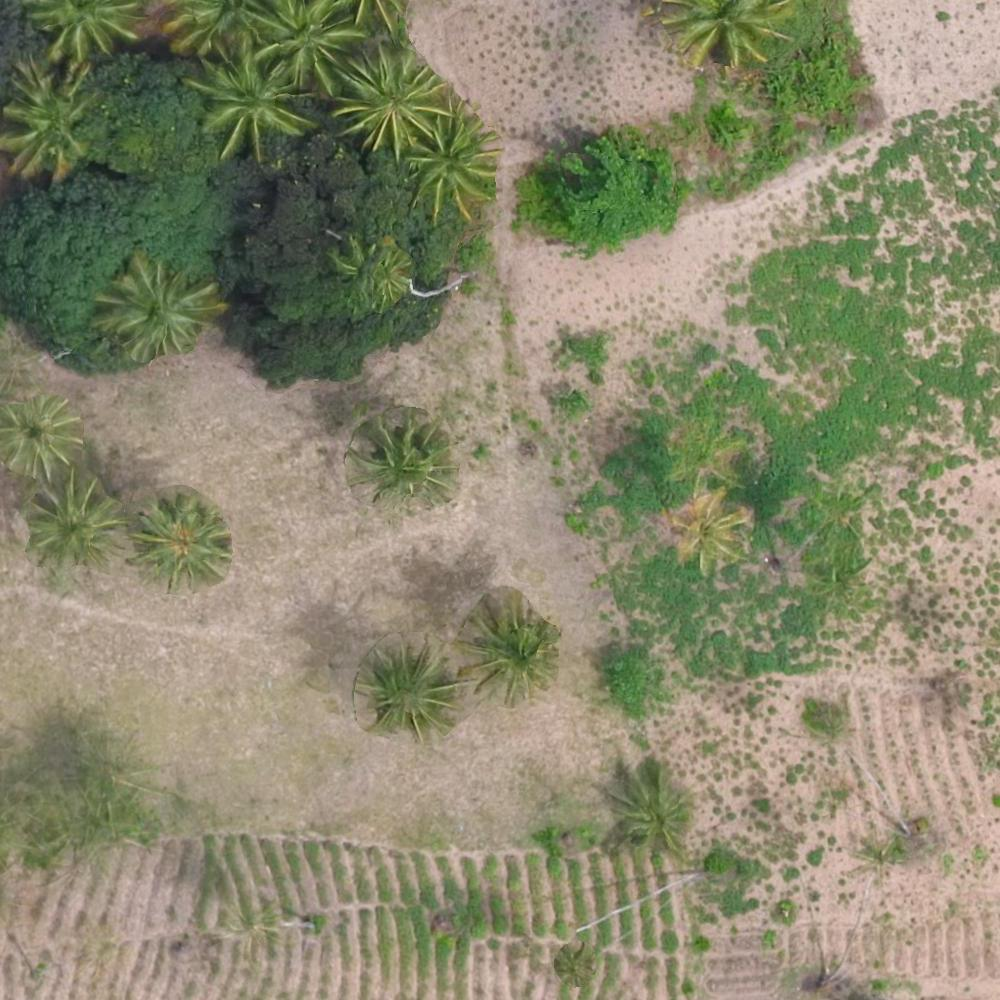Palm: (95, 251, 220, 362), (194, 46, 316, 156), (331, 47, 442, 150), (399, 101, 498, 213), (3, 66, 99, 179), (240, 1, 357, 90), (364, 642, 463, 747), (132, 496, 231, 592), (29, 477, 125, 572), (462, 601, 554, 700), (350, 421, 453, 507), (3, 393, 82, 479), (611, 766, 690, 852), (673, 500, 748, 568)
